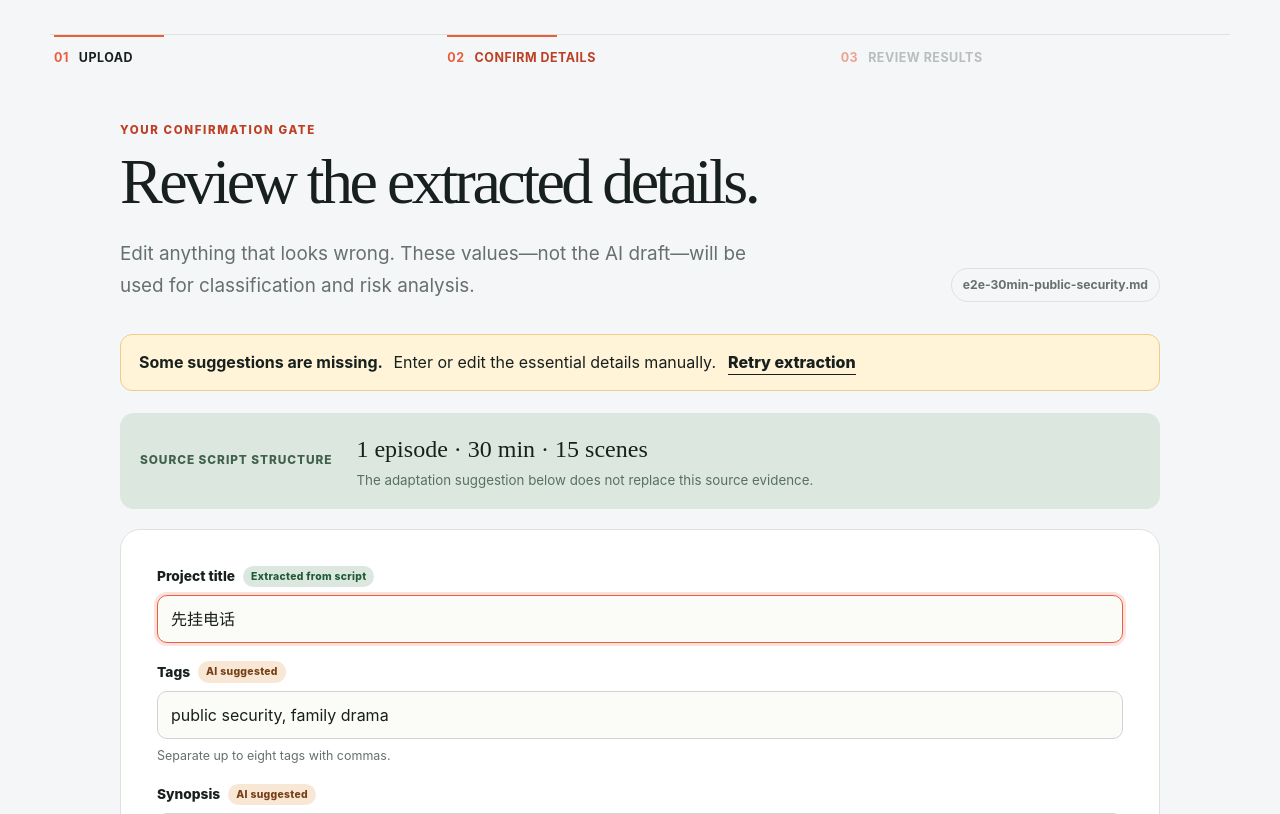
it: upload-first review flow › refetches server truth after retry fails and renders a failed session
Click the button "Retry extraction": (792, 362) x1=728 y1=350 x2=856 y2=375
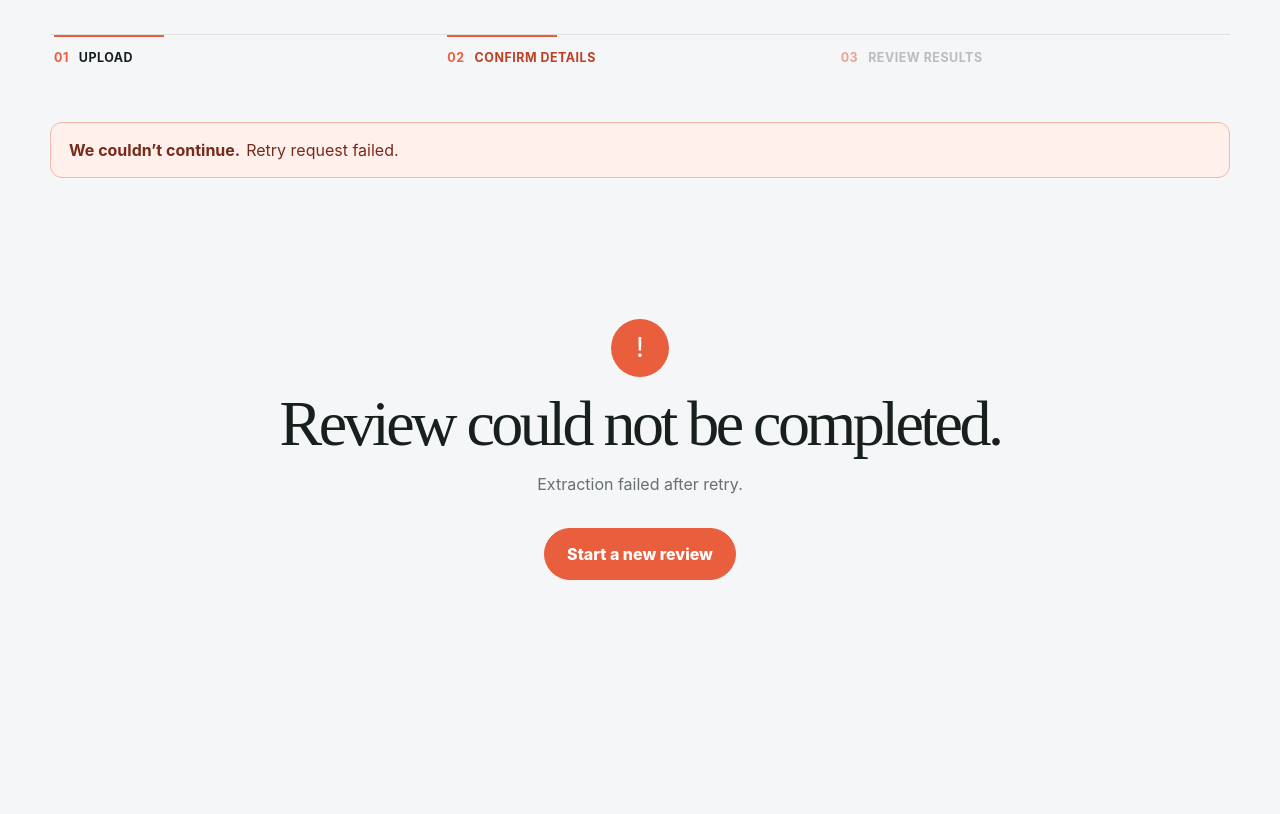
Now the heading "Review could not be completed." is shown, box x1=280 y1=393 x2=1000 y2=456
Now the text "Extraction failed after retry." is shown, box x1=537 y1=472 x2=743 y2=496
Now the message shows "Retry request failed.", box x1=246 y1=140 x2=399 y2=160
